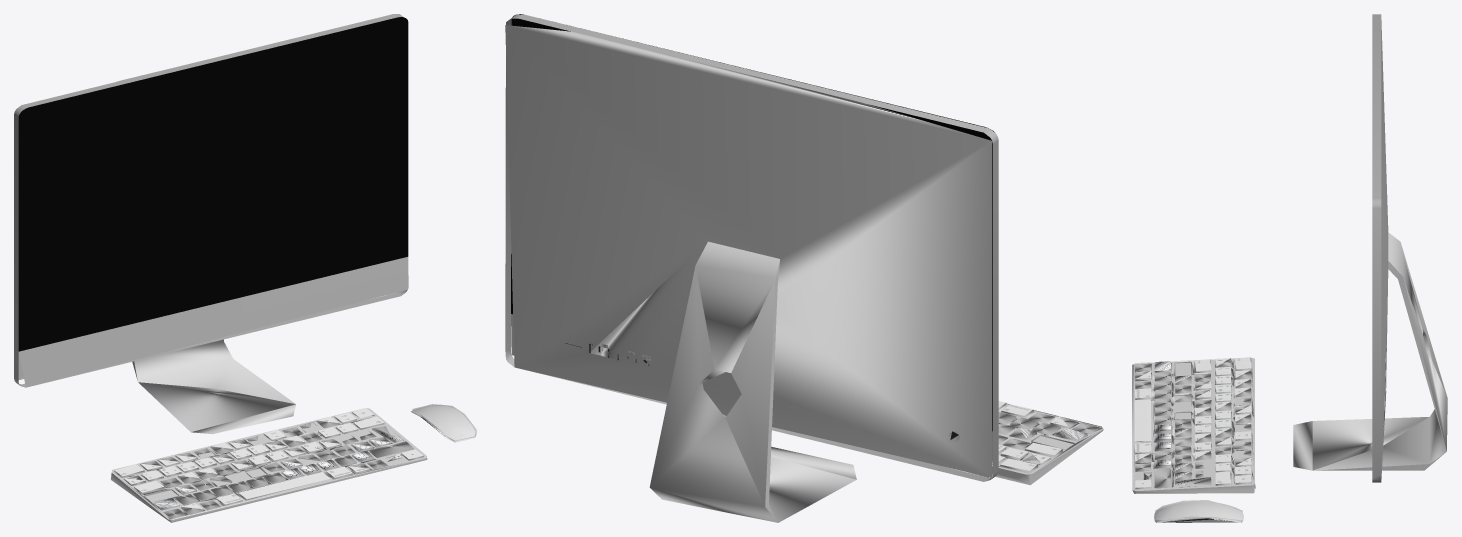
File: dev-all-in-one_lod2.glb
The picture shows the model from 3 angles, left to right: view 1: azimuth 30°, elevation 25°; view 2: azimuth 150°, elevation 25°; view 3: azimuth 270°, elevation 25°; orthographic projection. The views are drawn at different scales.
Parts seen in each view (by area): view 1: body, keyboard, back_cover, stand, mouse; view 2: back_cover, stand, body, keyboard; view 3: keyboard, stand, body, back_cover, mouse.
Part boxes in pixels (x1,y1,x2,y2): body: (14, 14, 408, 387); keyboard: (111, 408, 427, 522); back_cover: (18, 34, 408, 387); stand: (132, 339, 295, 434); mouse: (410, 404, 476, 442); back_cover: (505, 25, 992, 477); stand: (649, 241, 856, 522); body: (505, 14, 998, 481); keyboard: (992, 401, 1103, 485); keyboard: (1132, 357, 1255, 493); stand: (1293, 232, 1447, 470); body: (1372, 14, 1386, 482); back_cover: (1381, 20, 1388, 478); mouse: (1154, 500, 1243, 522).
Bounding box in the file's own units: 0.547 × 0.4502 × 0.3785.
11 materials, 2 textured.
